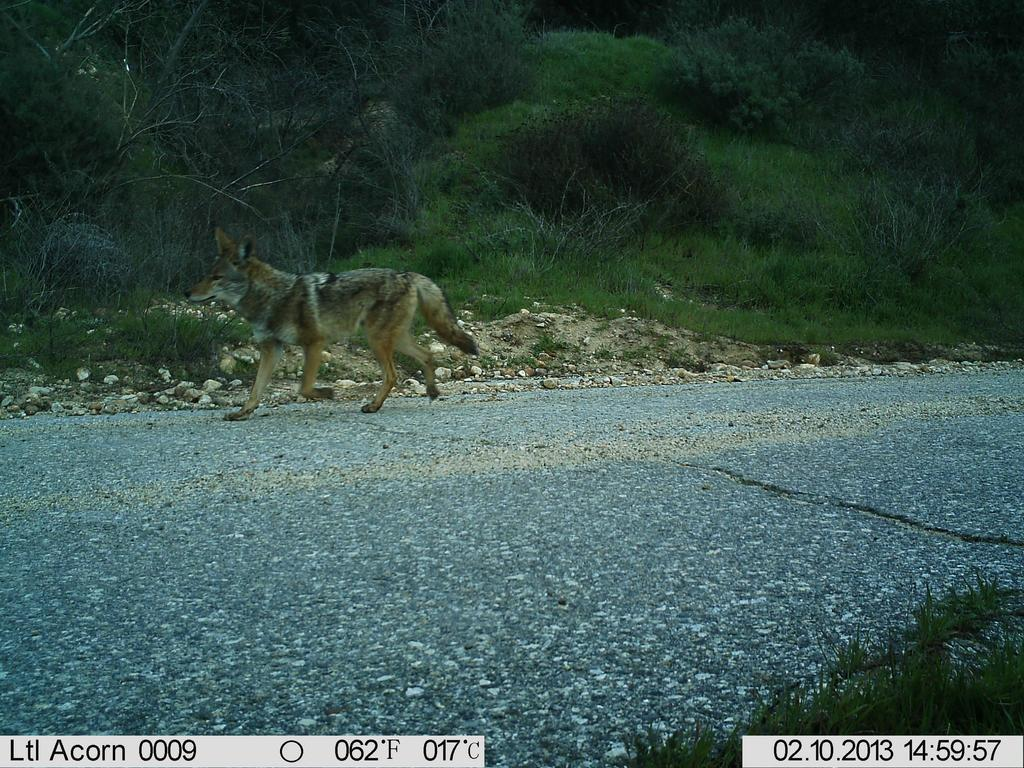coyote: (173, 220, 488, 423)
